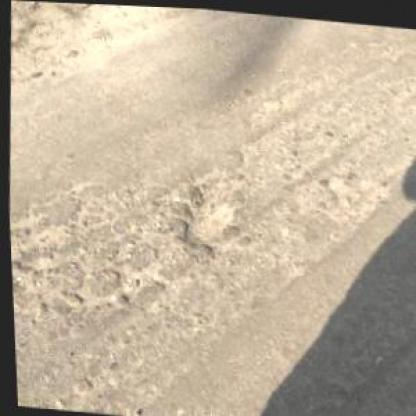pothole: (176, 186, 233, 251)
